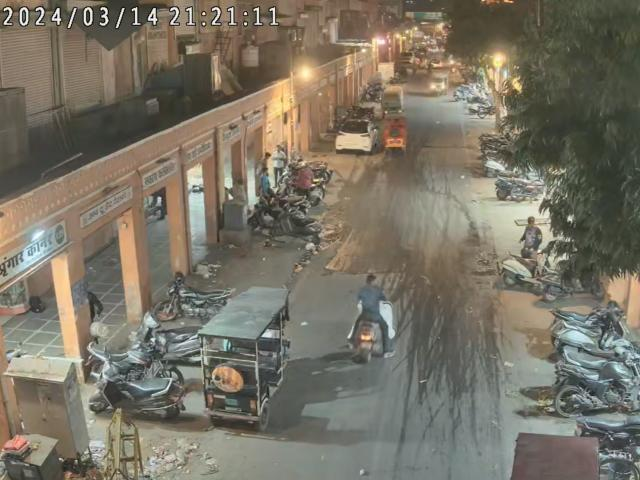auto: (201, 284, 299, 430)
motorbike: (550, 348, 636, 414), (86, 342, 184, 390), (154, 277, 230, 322), (548, 302, 616, 334)
no_helmet: (364, 272, 381, 288)
scooty: (94, 363, 183, 419), (132, 308, 202, 364), (552, 318, 623, 364), (270, 206, 320, 244)
scooty-rider: (348, 272, 396, 366)
